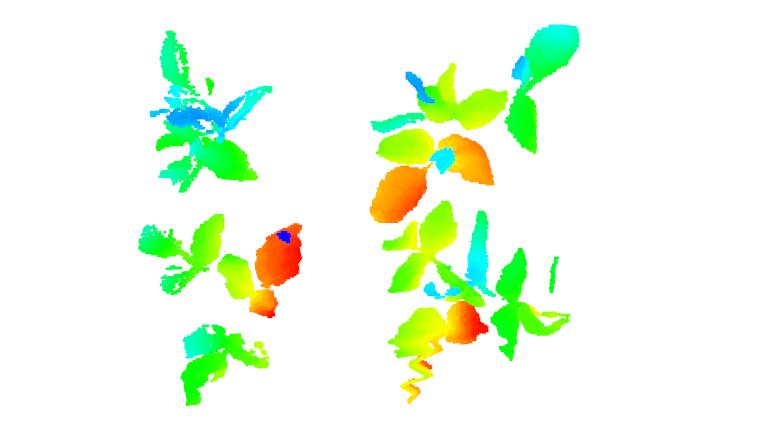mungbean: (366, 22, 586, 228), (133, 209, 308, 407), (378, 201, 574, 362), (145, 28, 276, 191)
